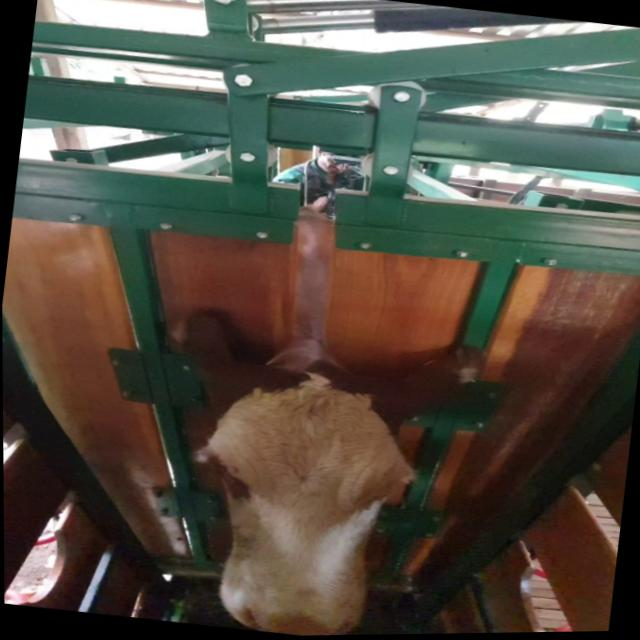cowFace: (186, 366, 416, 638)
